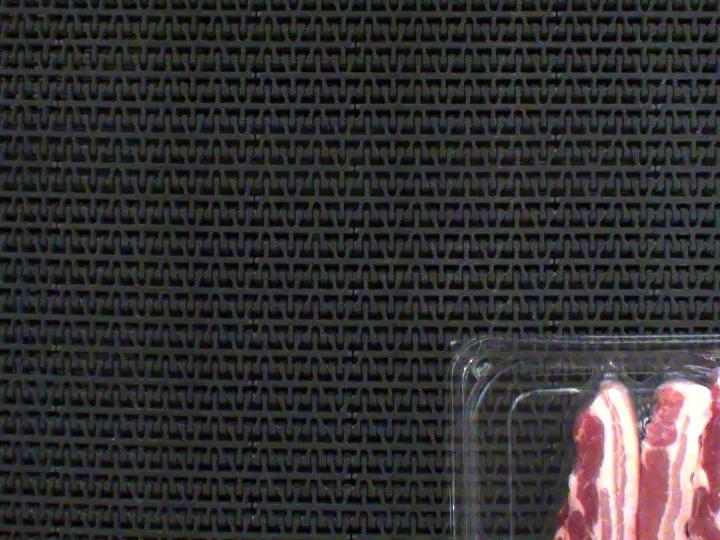unsealed: (563, 352, 720, 433)
